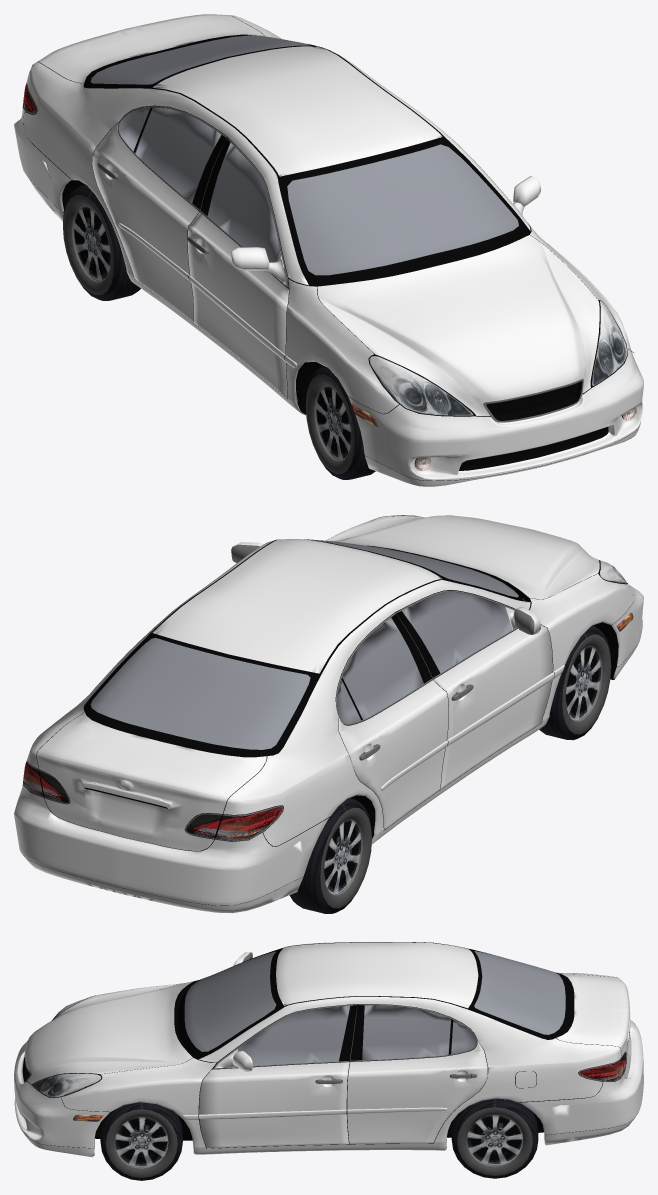
Rendered from sedan.gltf.
3 views of the same model, one above another, from view 1: azimuth 30°, elevation 25°; view 2: azimuth 150°, elevation 25°; view 3: azimuth 270°, elevation 25° (orthographic). The views are drawn at different scales.
Visible parts, largest first — view 1: top, R_door02, R_door, tyre01, tyre, R_mirror; view 2: top, R_door, R_door02, tyre01, tyre, R_mirror; view 3: top, L_door, L_door02, tyre01, tyre.
Part boxes in pixels (bbox=[...]): top: bbox=[14, 14, 643, 486]; R_door02: bbox=[92, 106, 226, 322]; R_door: bbox=[187, 137, 288, 398]; tyre01: bbox=[63, 184, 140, 300]; tyre: bbox=[305, 365, 375, 479]; R_mirror: bbox=[231, 247, 269, 270]; top: bbox=[14, 515, 643, 913]; R_door: bbox=[396, 590, 554, 789]; R_door02: bbox=[336, 612, 448, 830]; tyre01: bbox=[289, 798, 371, 913]; tyre: bbox=[539, 625, 611, 740]; R_mirror: bbox=[513, 607, 540, 634]; top: bbox=[14, 942, 643, 1157]; L_door: bbox=[199, 1004, 357, 1148]; L_door02: bbox=[346, 1004, 487, 1144]; tyre01: bbox=[451, 1098, 538, 1178]; tyre: bbox=[100, 1102, 182, 1180].
Size of the model in its own units: 1489 by 1084 by 3623.
12 materials, 6 textured.
